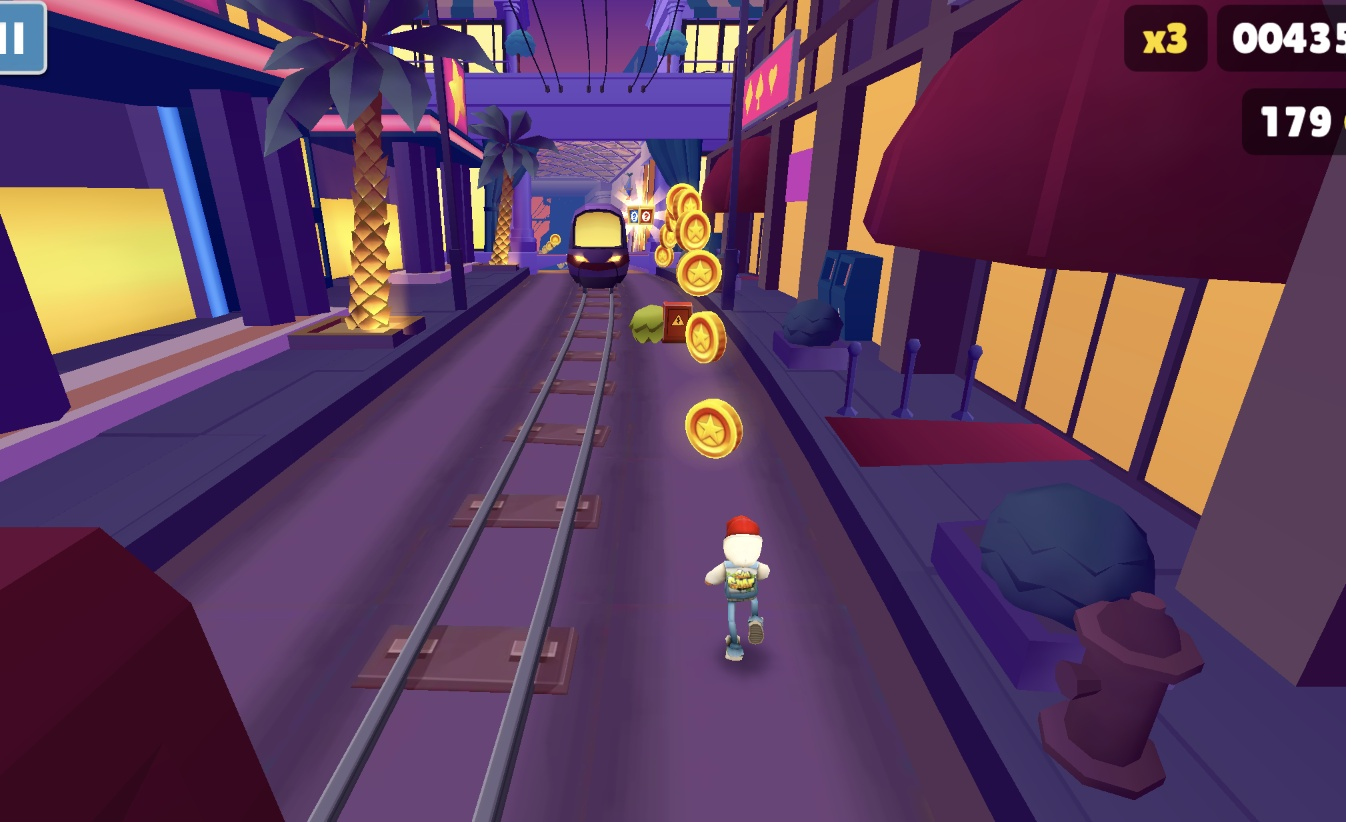bush: (629, 305, 724, 345)
small_obstacle: (662, 302, 693, 344)
train: (0, 527, 148, 822), (567, 193, 633, 291)
